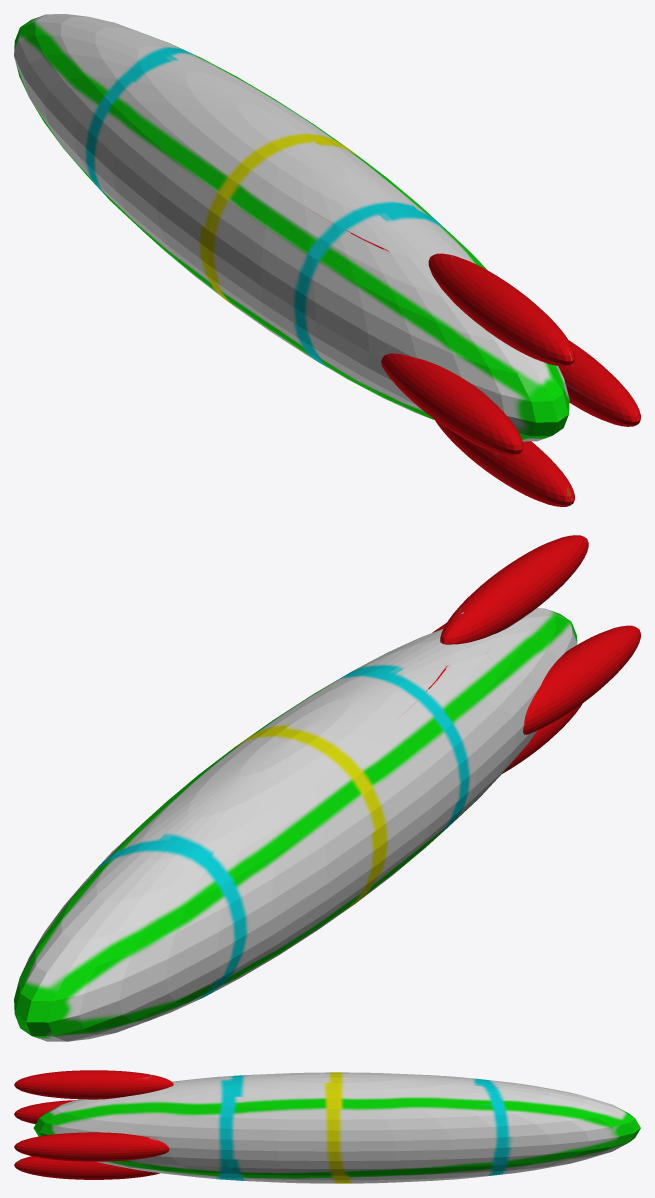
File: rocket.obj
3 renders of one model, top to bottom at view 1: azimuth 30°, elevation 25°; view 2: azimuth 150°, elevation 25°; view 3: azimuth 270°, elevation 25°, orthographic. The views are drawn at different scales.
Parts seen in each view (by area): view 1: 球; view 2: 球; view 3: 球.
Part boxes in pixels (bbox=[...]): 球: bbox=[14, 14, 640, 506]; 球: bbox=[14, 535, 640, 1041]; 球: bbox=[14, 1070, 640, 1183].
Size of the model in its own units: 2.01 by 2.12 by 11.25.
1 material, 1 textured.
